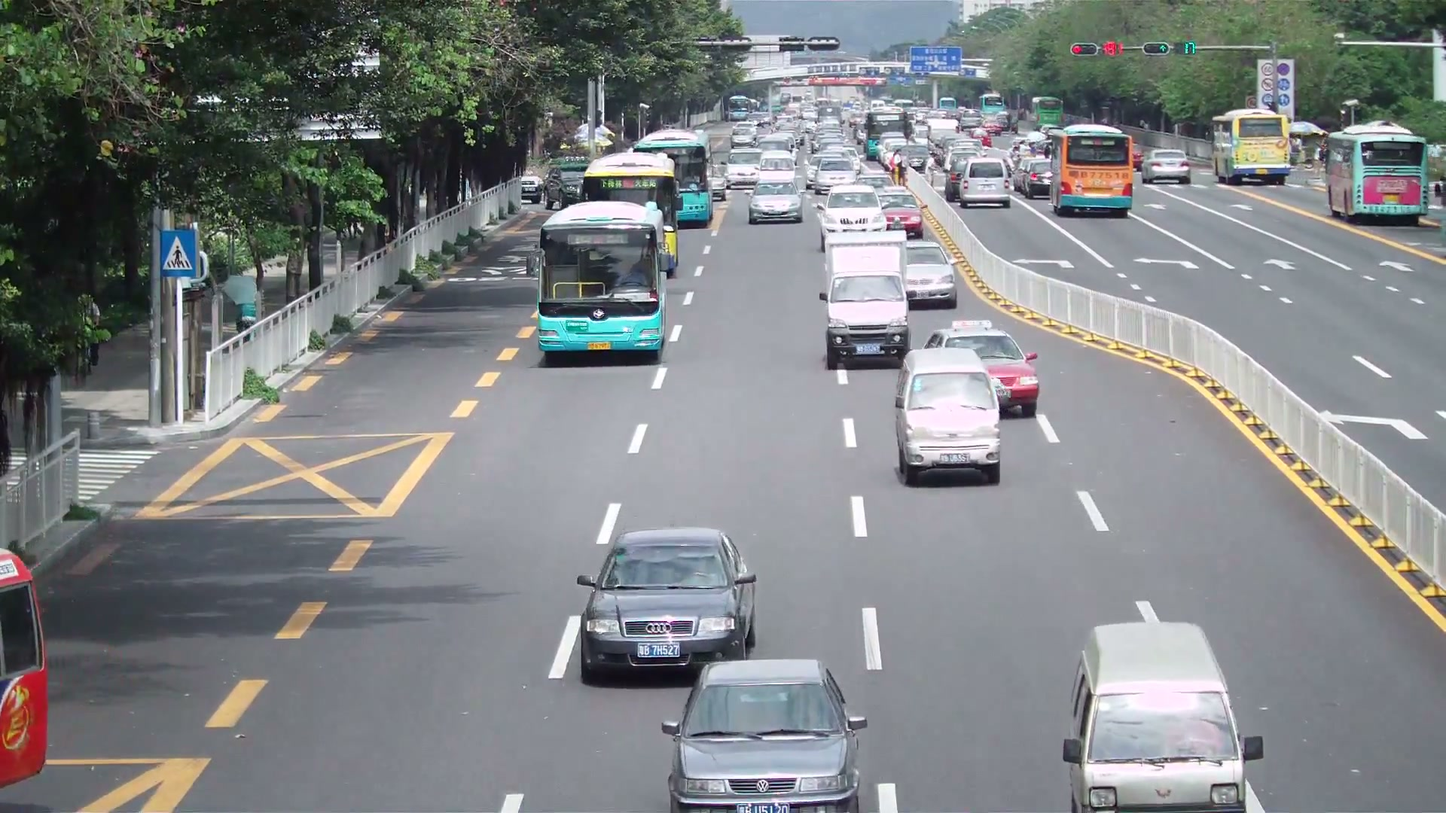bus: (535, 200, 667, 364), (581, 150, 680, 277), (1, 548, 51, 788), (1324, 122, 1428, 226), (1051, 123, 1136, 216), (636, 126, 712, 229), (1210, 108, 1294, 185)
car: (1061, 622, 1266, 812), (660, 659, 867, 812), (575, 527, 759, 685), (893, 348, 1004, 487), (928, 321, 1041, 419), (824, 273, 910, 367), (901, 240, 958, 308), (955, 156, 1013, 210), (876, 188, 926, 238), (747, 185, 804, 224), (1144, 147, 1193, 185), (519, 175, 544, 204)
truck: (1061, 620, 1265, 812)
